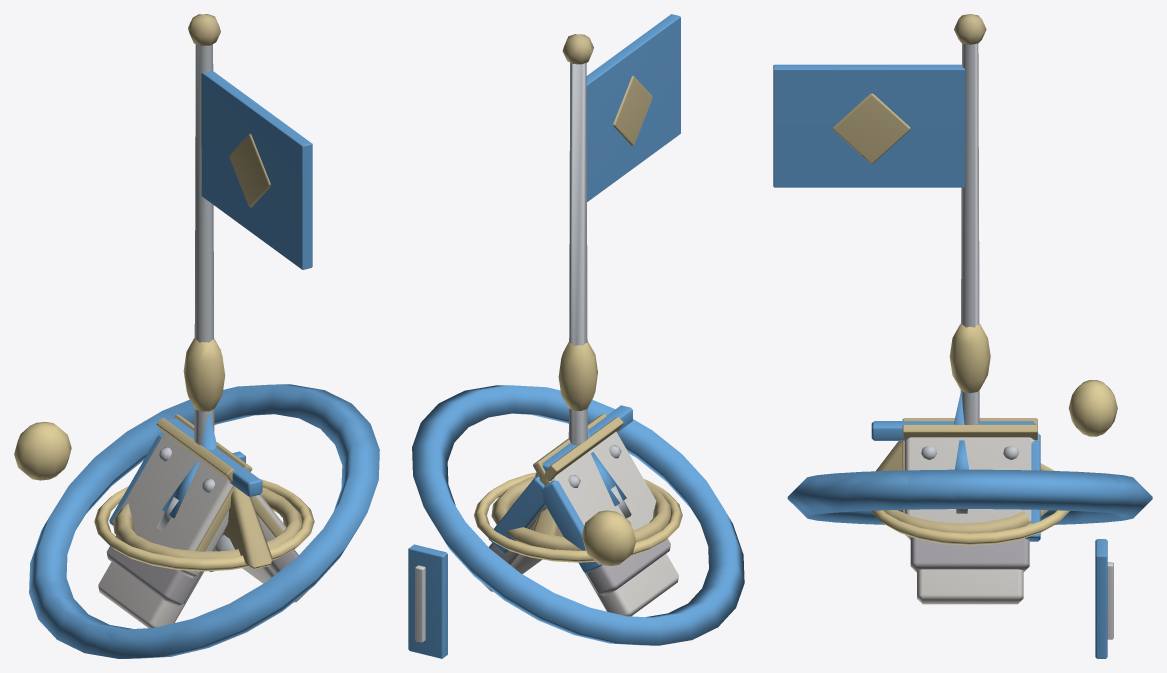
Rendered from wardling_props.glb.
The picture shows the model from 3 angles, left to right: view 1: azimuth 30°, elevation 25°; view 2: azimuth 150°, elevation 25°; view 3: azimuth 270°, elevation 25°; orthographic projection. The views are drawn at different scales.
Visible parts, largest first — view 1: pennant, sash_own, sash, plate_l, elite, crown, crest, plate_r; view 2: pennant, sash, sash_own, plate_l, elite, plate_r, crown, crest; view 3: pennant, plate_r, sash_own, sash, elite, crown, plate_l, crest.
Part boxes in pixels (x1,y1,x2,y2): pennant: [188, 14, 312, 445]; sash_own: [14, 384, 379, 658]; sash: [30, 384, 378, 656]; plate_l: [98, 414, 252, 628]; elite: [94, 338, 314, 571]; crown: [113, 414, 302, 558]; crest: [168, 418, 272, 569]; plate_r: [156, 418, 307, 602]; pennant: [562, 14, 680, 444]; sash: [409, 385, 743, 658]; sash_own: [408, 385, 744, 649]; plate_l: [533, 413, 678, 616]; elite: [474, 341, 682, 562]; plate_r: [480, 417, 623, 591]; crown: [491, 426, 670, 550]; crest: [533, 405, 632, 536]; pennant: [773, 14, 986, 424]; plate_r: [902, 418, 1040, 604]; sash_own: [788, 380, 1152, 658]; sash: [787, 469, 1152, 639]; elite: [870, 323, 1069, 545]; crown: [883, 392, 1048, 533]; plate_l: [902, 424, 1040, 443]; crest: [871, 421, 1035, 511].
Size of the model in its own units: 0.3956 by 0.8 by 0.4624.
